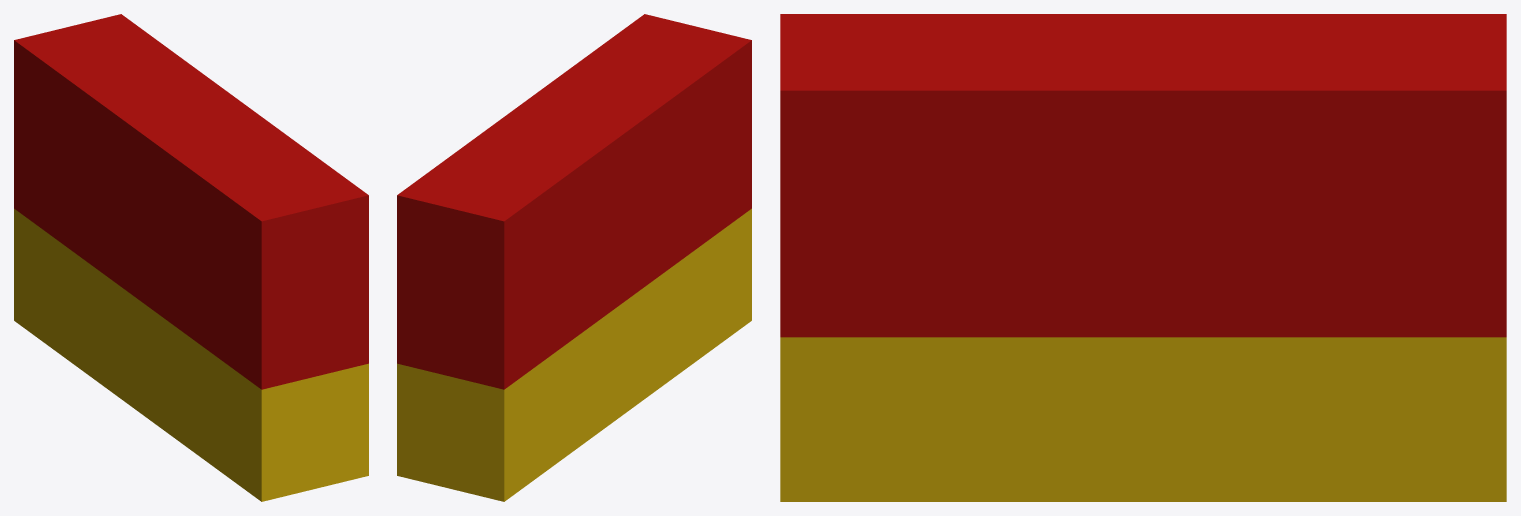
File: hoist_tail_lamp.glb
3 renders of one model, left to right at view 1: azimuth 30°, elevation 25°; view 2: azimuth 150°, elevation 25°; view 3: azimuth 270°, elevation 25°, orthographic. The views are drawn at different scales.
Visible parts, largest first — view 1: body:compound; view 2: body:compound; view 3: body:compound.
Boxes of the visible parts, <box> form: body:compound: <box>14,14,368,501</box>; body:compound: <box>397,14,751,501</box>; body:compound: <box>780,14,1506,501</box>.
Bounding box in the file's own units: 0.0625 × 0.1562 × 0.25.
